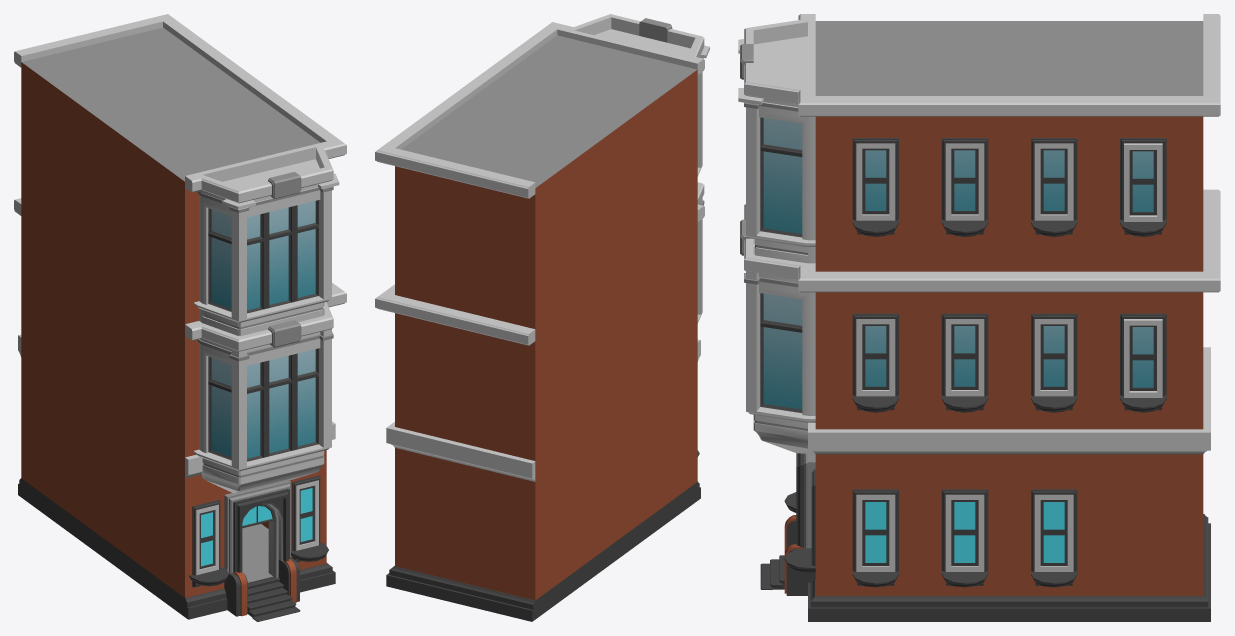
File: SM_Buildings_House_03_V4.fbx
The picture shows the model from 3 angles, left to right: view 1: azimuth 30°, elevation 25°; view 2: azimuth 150°, elevation 25°; view 3: azimuth 270°, elevation 25°; orthographic projection. The views are drawn at different scales.
Visible parts, largest first — view 1: SM_Buildings_House_03_V4; view 2: SM_Buildings_House_03_V4; view 3: SM_Buildings_House_03_V4.
Part boxes in pixels (bbox=[...]): SM_Buildings_House_03_V4: bbox=[14, 14, 346, 621]; SM_Buildings_House_03_V4: bbox=[375, 14, 709, 621]; SM_Buildings_House_03_V4: bbox=[738, 14, 1220, 621].
Bounding box in the file's own units: 5.8 × 14.98 × 12.45.
